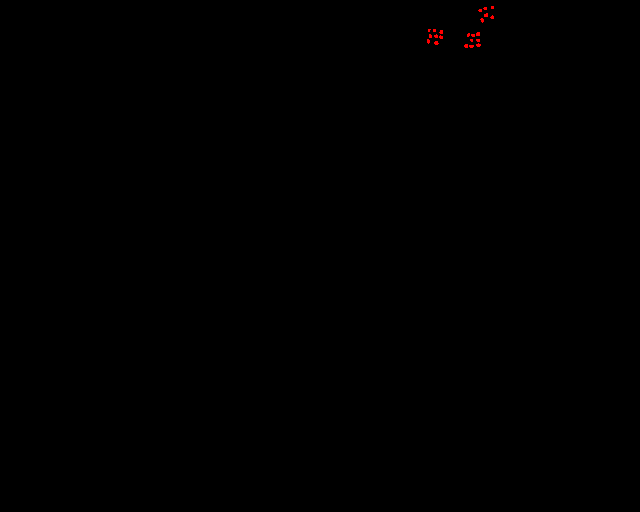Target: (480, 18, 484, 23), (434, 41, 439, 45), (476, 43, 481, 47), (484, 13, 488, 17), (490, 15, 494, 19), (439, 30, 443, 34), (476, 32, 480, 36), (434, 34, 438, 38), (439, 35, 443, 39), (464, 44, 468, 48), (427, 39, 430, 44), (469, 45, 474, 48), (483, 7, 487, 10), (478, 9, 482, 12), (467, 33, 470, 37), (429, 34, 432, 38), (471, 34, 475, 37), (476, 39, 480, 42), (491, 6, 494, 9), (428, 29, 431, 32), (433, 29, 436, 32), (470, 39, 473, 42)
